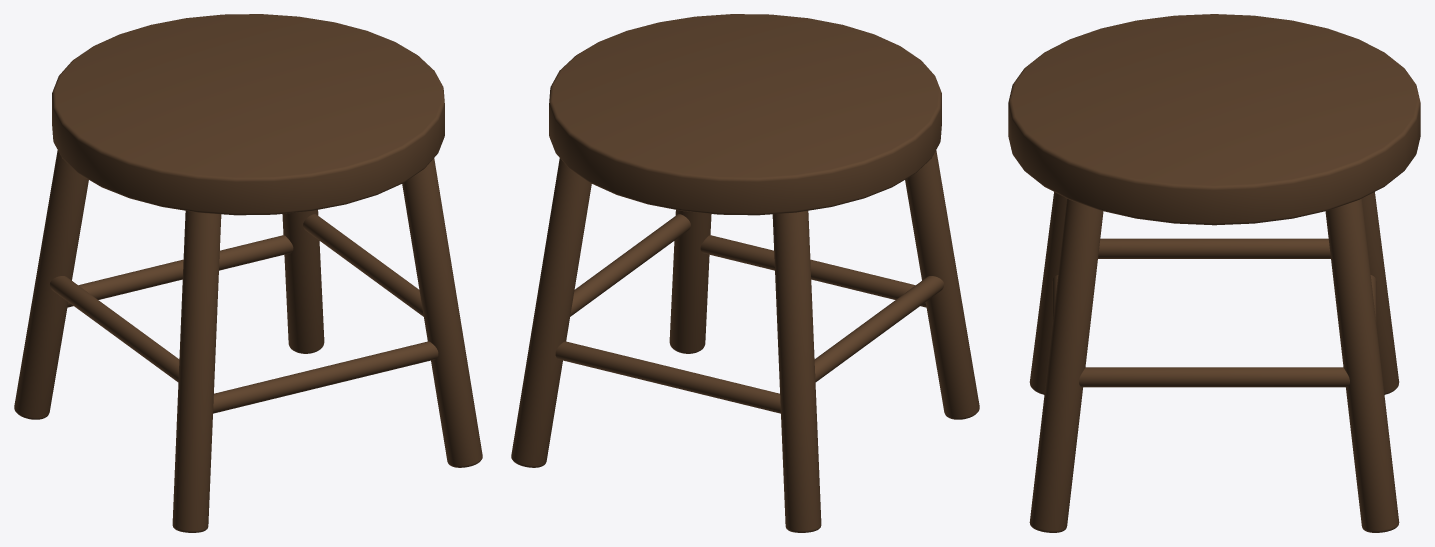
The model's file is wooden-stool.glb.
The picture shows the model from 3 angles, left to right: view 1: azimuth 30°, elevation 25°; view 2: azimuth 150°, elevation 25°; view 3: azimuth 270°, elevation 25°; orthographic projection. The views are drawn at different scales.
Parts seen in each view (by area): view 1: Round stool seat, Splayed stool leg, Splayed stool leg.002, Splayed stool leg.001, Splayed stool leg.003, Side stretcher, Side stretcher.001, Cross stretcher, Cross stretcher.001; view 2: Round stool seat, Splayed stool leg.001, Splayed stool leg.003, Splayed stool leg, Splayed stool leg.002, Side stretcher.001, Side stretcher, Cross stretcher, Cross stretcher.001; view 3: Round stool seat, Splayed stool leg.002, Splayed stool leg.003, Cross stretcher.001, Cross stretcher, Splayed stool leg, Splayed stool leg.001.
Part boxes in pixels (x1,y1,x2,y2): Round stool seat: [52, 14, 444, 215]; Splayed stool leg: [172, 211, 221, 532]; Splayed stool leg.002: [402, 158, 482, 467]; Splayed stool leg.001: [14, 150, 88, 419]; Splayed stool leg.003: [282, 210, 324, 353]; Side stretcher: [213, 341, 438, 413]; Side stretcher.001: [67, 235, 293, 307]; Cross stretcher: [50, 276, 179, 381]; Cross stretcher.001: [303, 214, 423, 316]; Round stool seat: [549, 14, 941, 215]; Splayed stool leg.001: [772, 211, 821, 532]; Splayed stool leg.003: [511, 158, 591, 467]; Splayed stool leg: [905, 150, 979, 419]; Splayed stool leg.002: [669, 210, 711, 353]; Side stretcher.001: [555, 341, 780, 413]; Side stretcher: [700, 235, 926, 307]; Cross stretcher: [814, 276, 943, 381]; Cross stretcher.001: [570, 214, 690, 316]; Round stool seat: [1008, 14, 1420, 225]; Splayed stool leg.002: [1029, 198, 1103, 532]; Splayed stool leg.003: [1325, 198, 1399, 532]; Cross stretcher.001: [1079, 367, 1349, 387]; Cross stretcher: [1098, 238, 1330, 258]; Splayed stool leg: [1029, 192, 1066, 394]; Splayed stool leg.001: [1362, 192, 1399, 394].
Size of the model in its own units: 0.57 by 0.5482 by 0.57.
